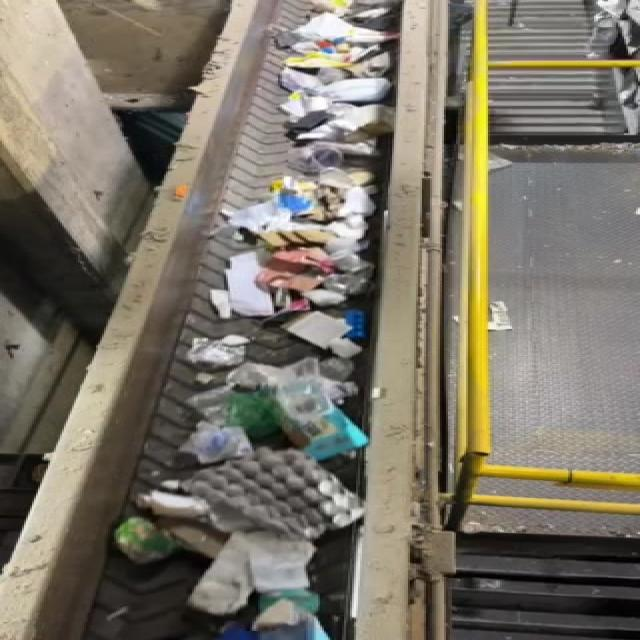paper: (220, 527, 322, 616)
pp: (272, 364, 381, 462), (173, 419, 268, 472), (117, 518, 188, 576)
ps: (160, 458, 374, 531)
